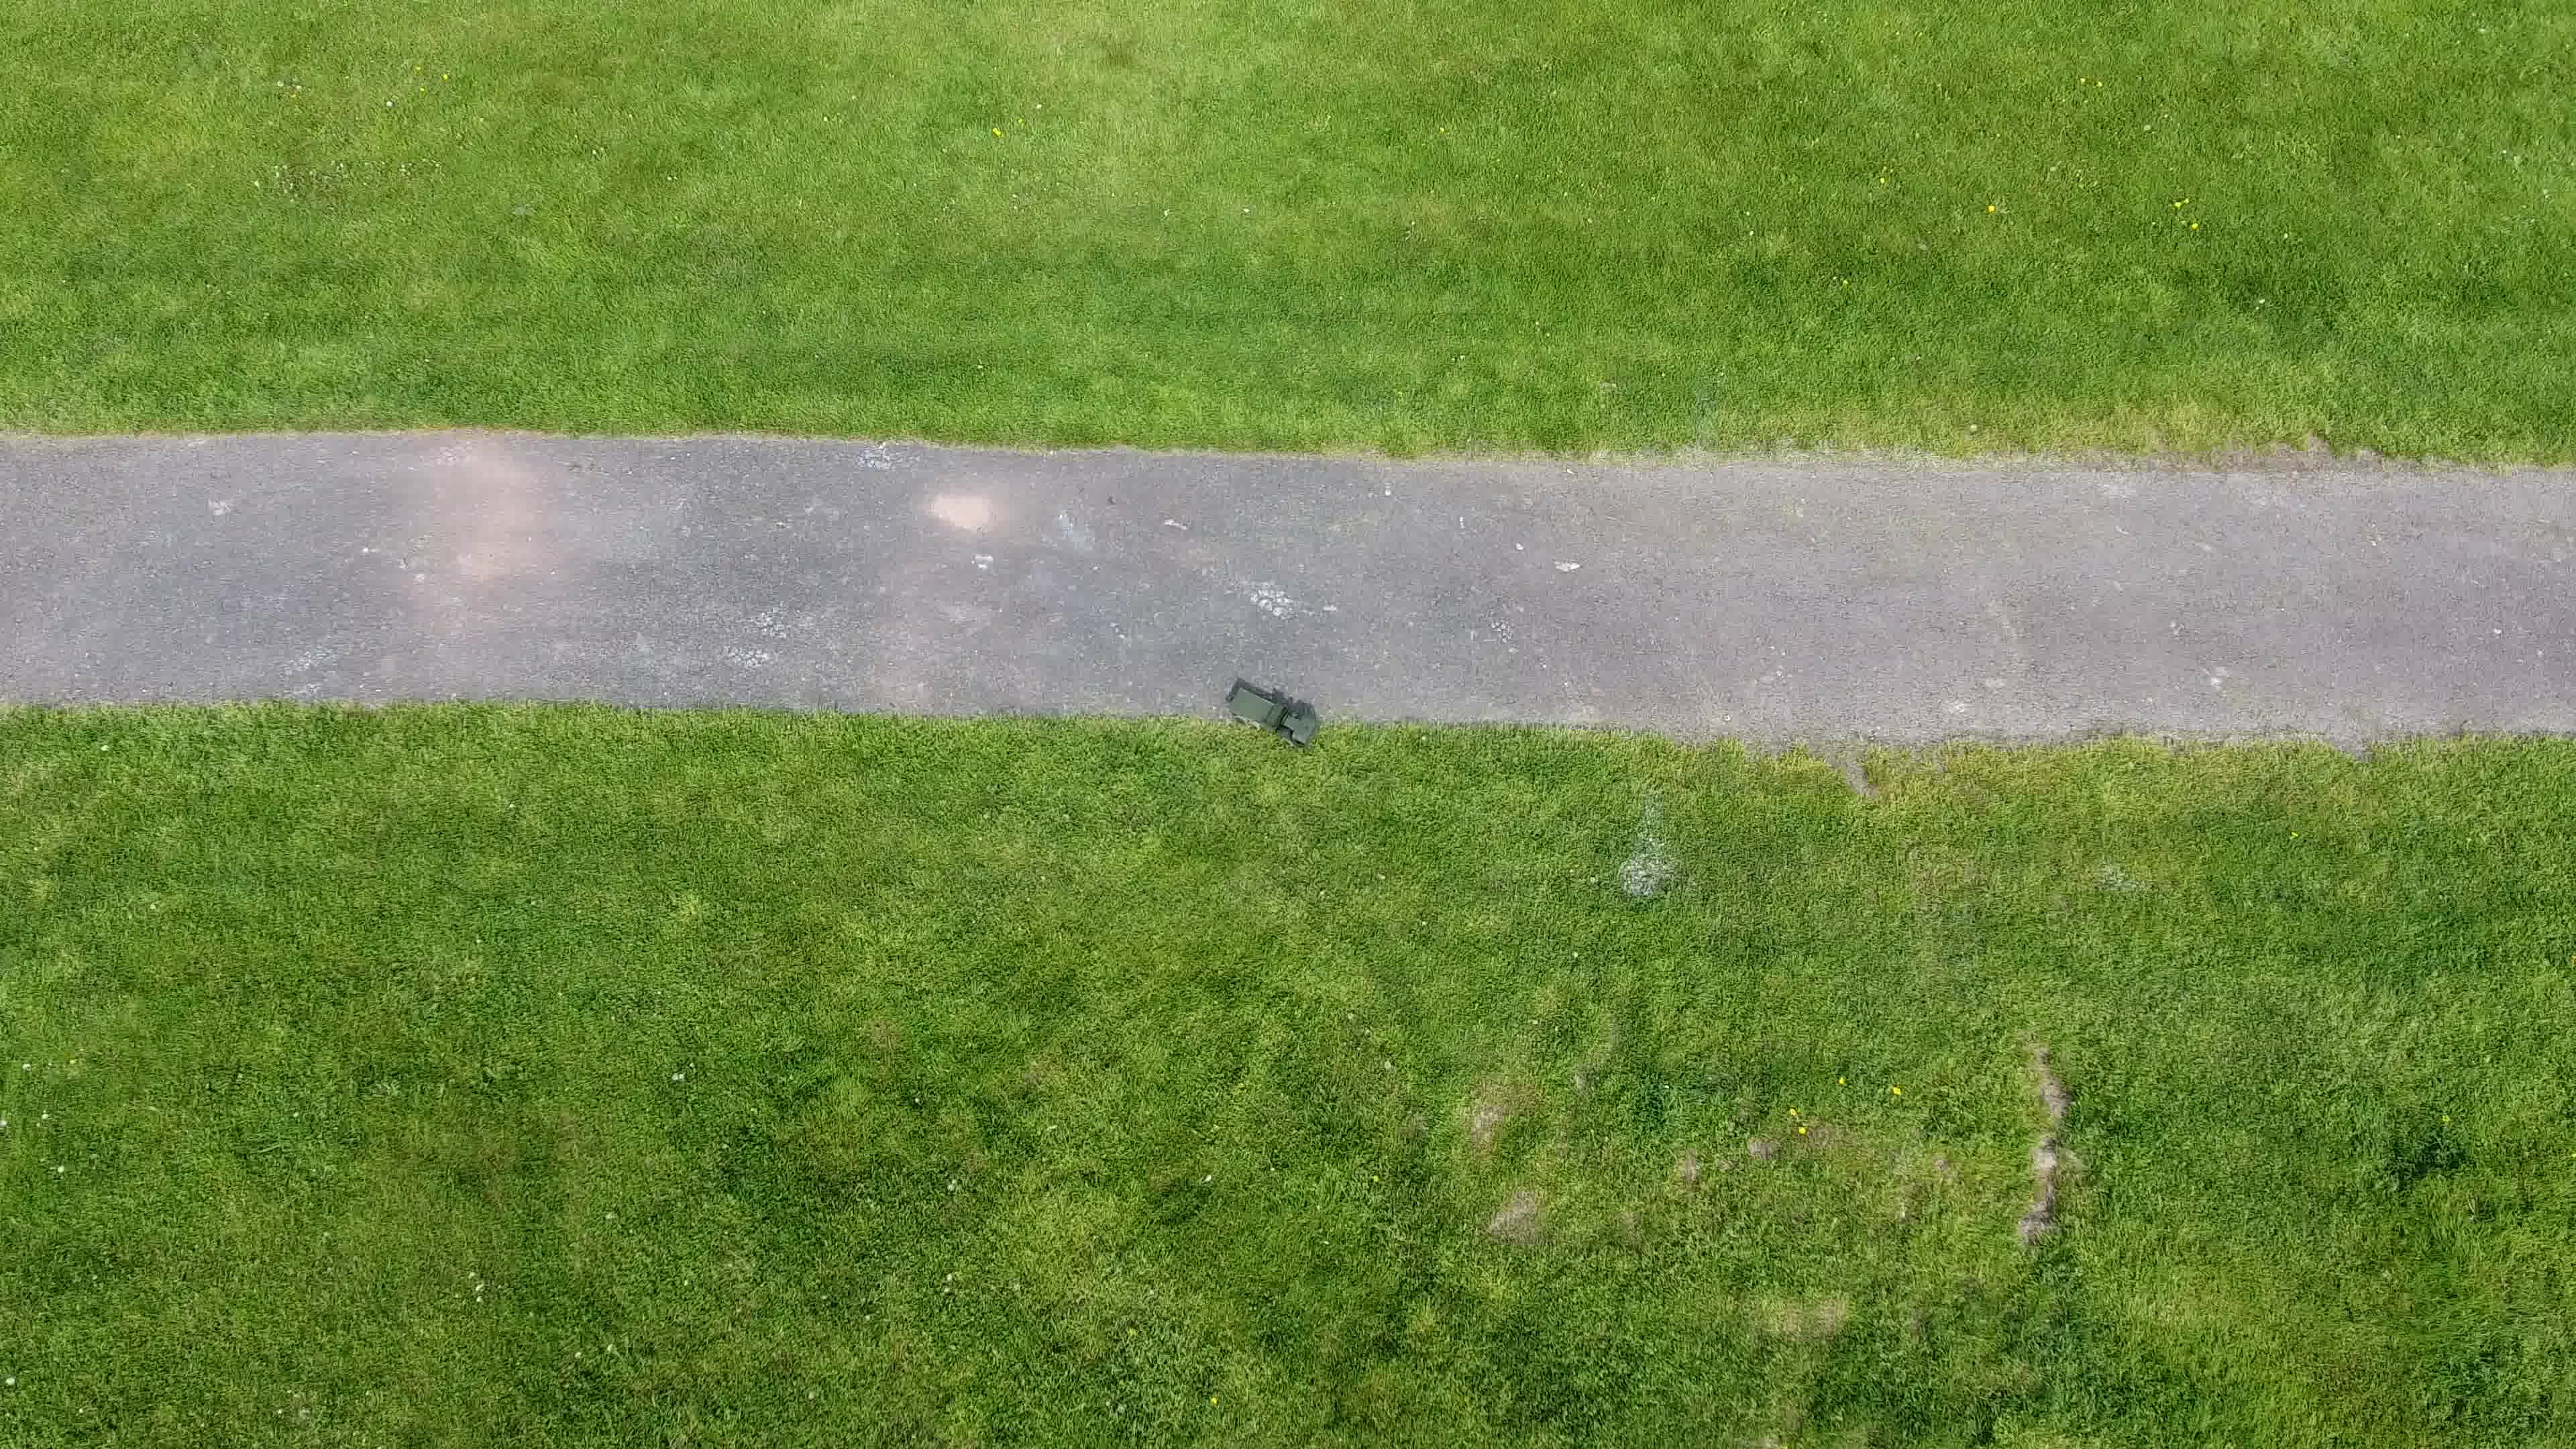transporter9: (1221, 679, 1323, 748)
